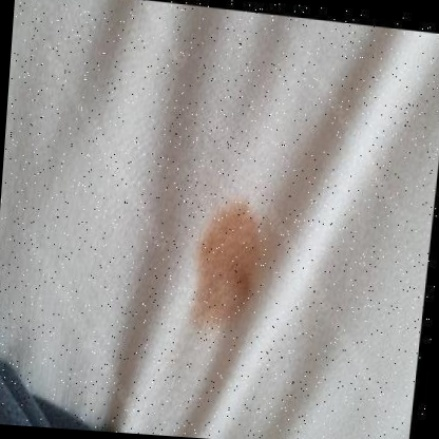kimchi: (181, 203, 277, 336)
